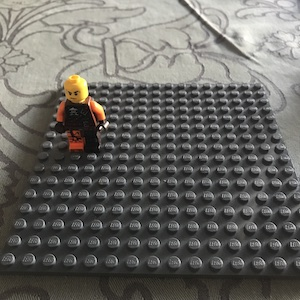Lego: (53, 74, 108, 152)
